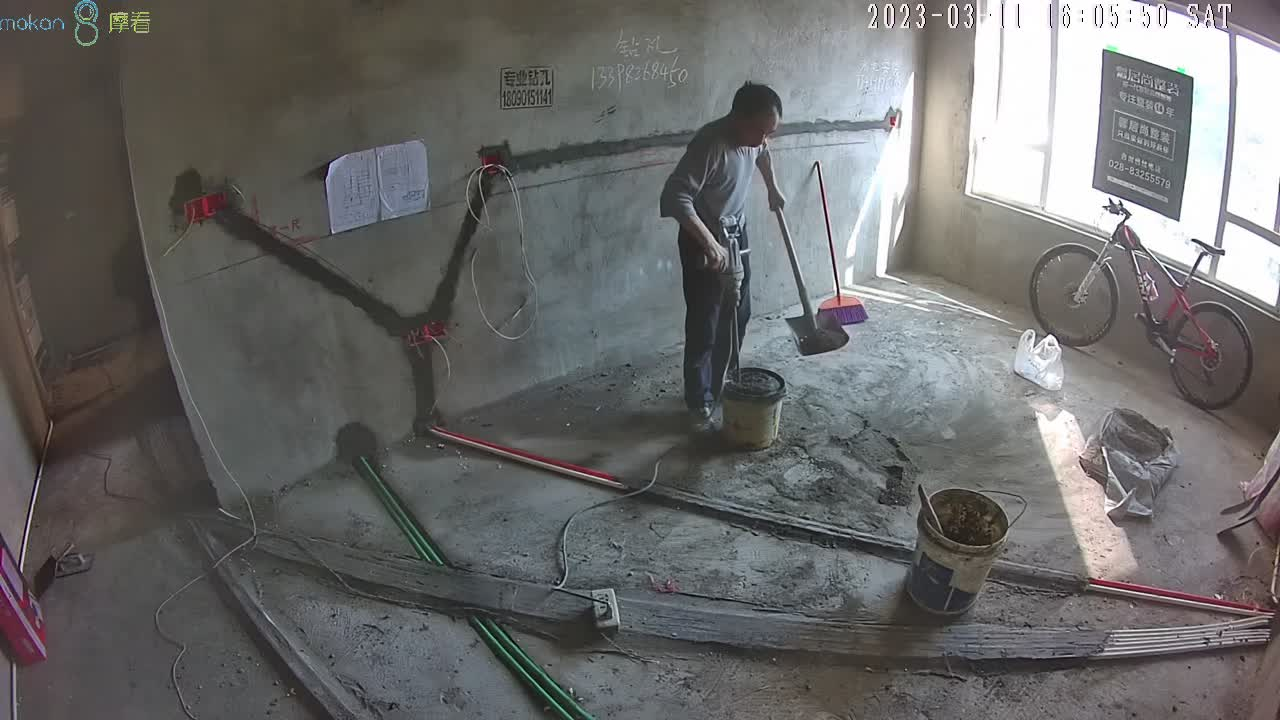people: (660, 81, 782, 427)
window: (977, 5, 1280, 309)
